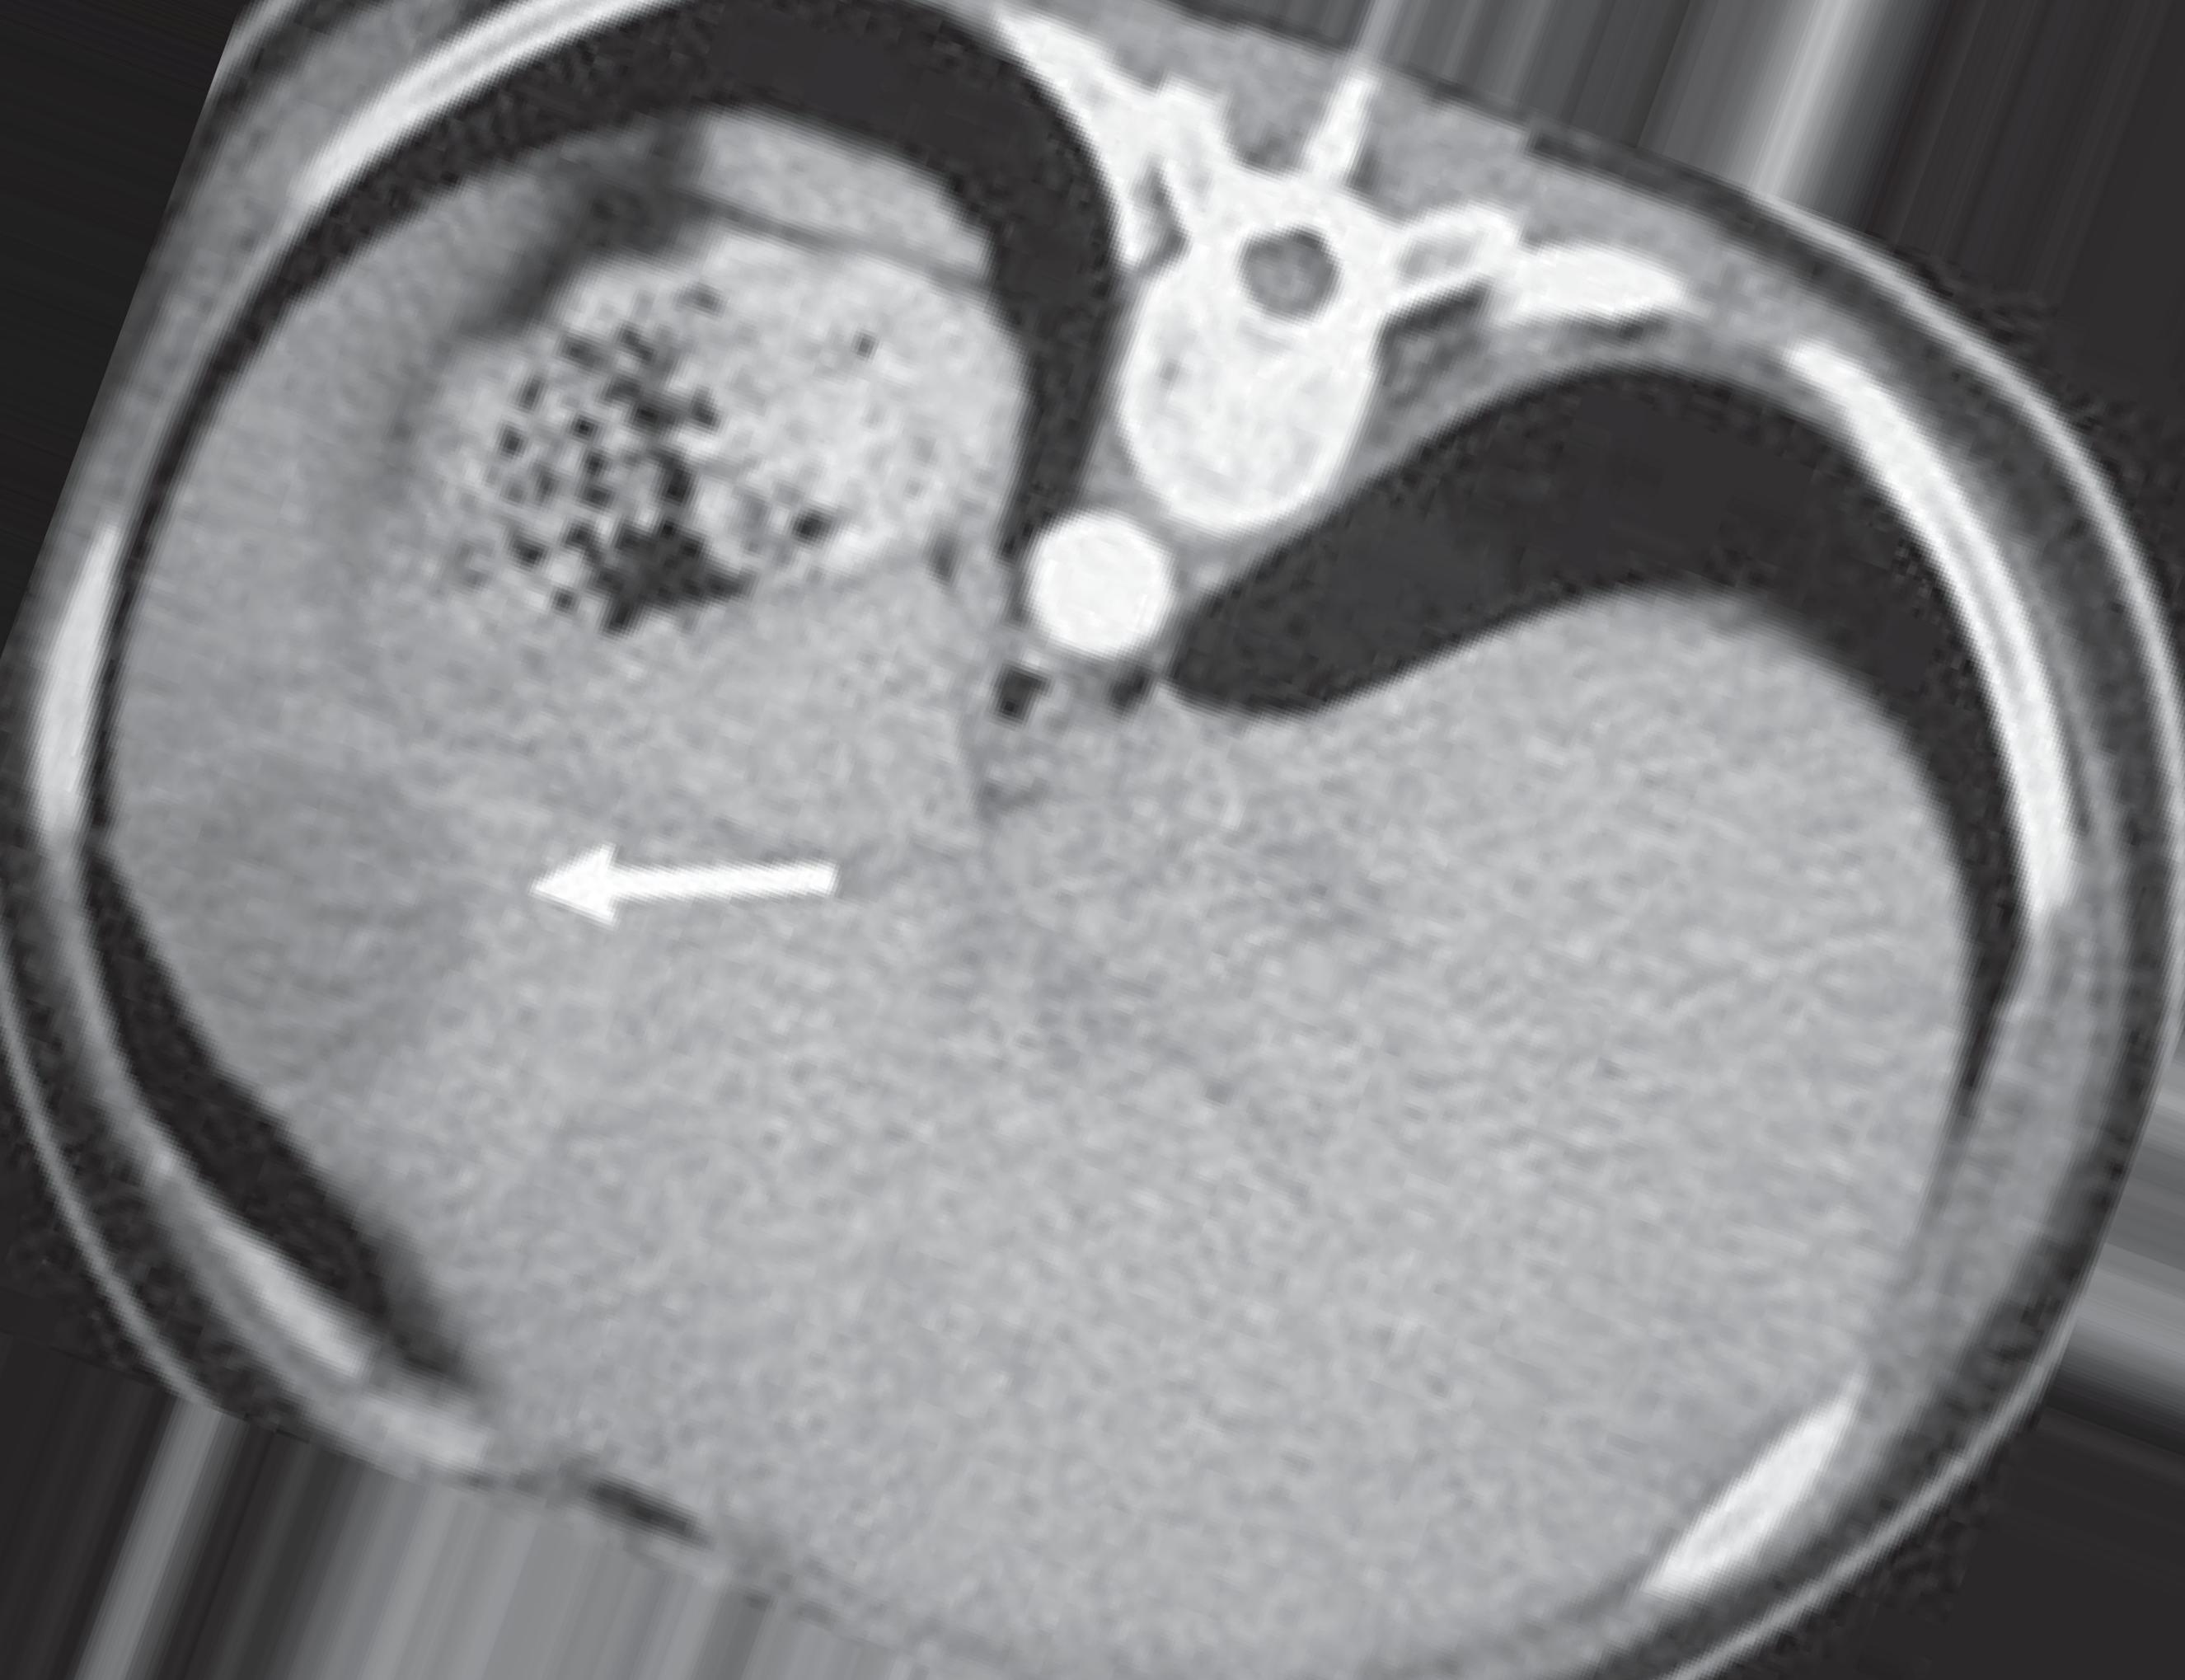anomaly: (161, 771, 501, 1103)
